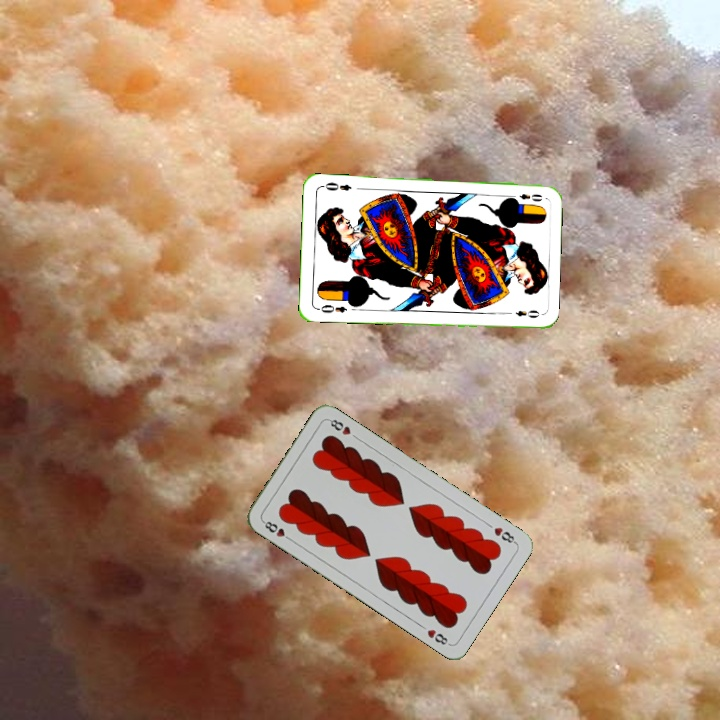EO: (506, 190, 545, 204), (313, 301, 349, 316)
H8: (259, 517, 295, 544), (490, 523, 519, 547)
